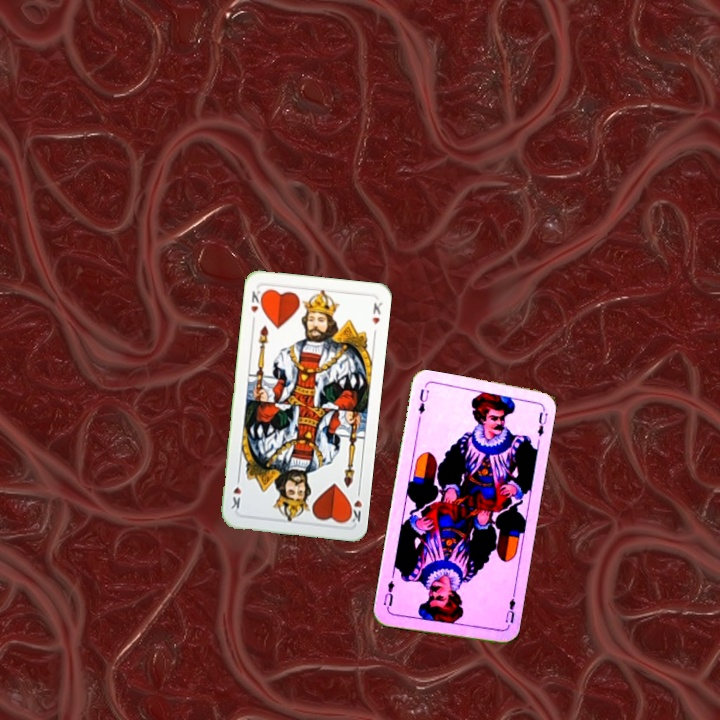EU: (414, 385, 432, 417), (501, 594, 518, 626)
HK: (344, 485, 365, 525), (247, 286, 266, 325)
